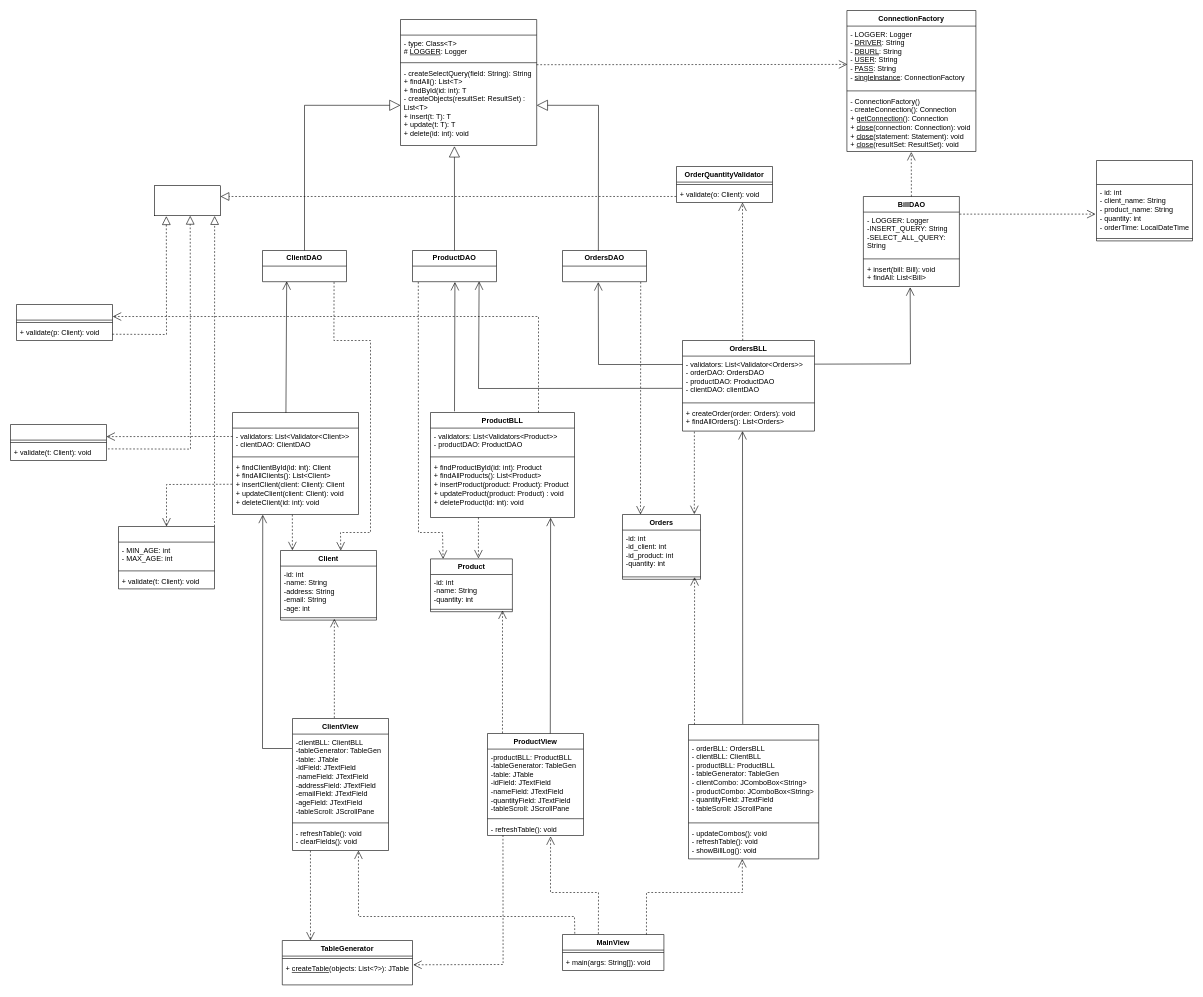
The diagram is 1203 pixels wide and 997 high, and some of its shapes have lost their labels. Each missing label, with the box of its shape:
<<record>> Bill: (1096, 160, 1192, 241)
AbstractDAO: (400, 19, 537, 146)
ClientAgeValidator: (118, 526, 214, 589)
ClientBLL: (232, 412, 358, 514)
EmailValidator: (10, 424, 106, 460)
OrdersView: (688, 724, 819, 859)
ProductStockValidator: (16, 304, 112, 340)
«interface» Validator: (154, 185, 220, 216)
